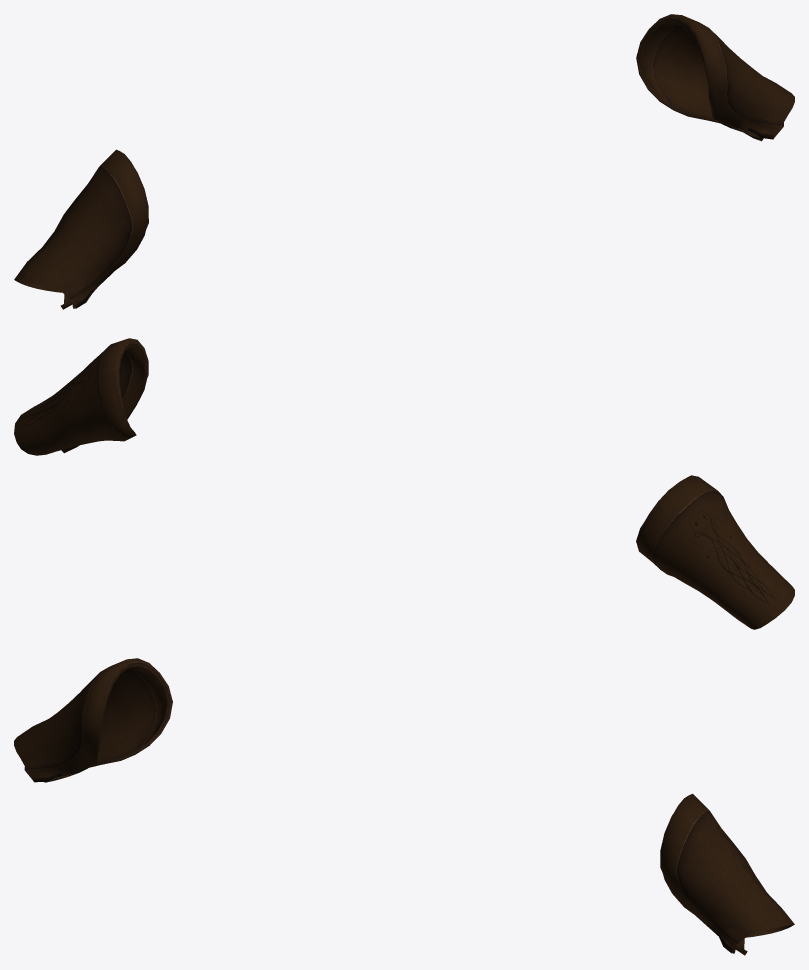
The model's file is rivendell_vambraces_gloves1.fbx.
3 renders of one model, top to bottom at view 1: azimuth 30°, elevation 25°; view 2: azimuth 150°, elevation 25°; view 3: azimuth 330°, elevation 25°, orthographic.
Parts seen in each view (by area): view 1: rivendell_vambraces_gloves1; view 2: rivendell_vambraces_gloves1; view 3: rivendell_vambraces_gloves1.
Part boxes in pixels (bbox=[...]): rivendell_vambraces_gloves1: bbox=[14, 14, 794, 309]; rivendell_vambraces_gloves1: bbox=[14, 338, 794, 629]; rivendell_vambraces_gloves1: bbox=[14, 658, 794, 955].
Bounding box in the file's own units: 1.43 × 0.1599 × 0.2394.
1 material, 1 textured.
